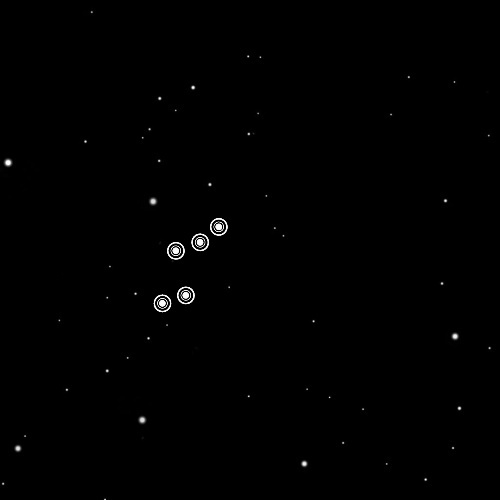lyra: (143, 210, 232, 322)
